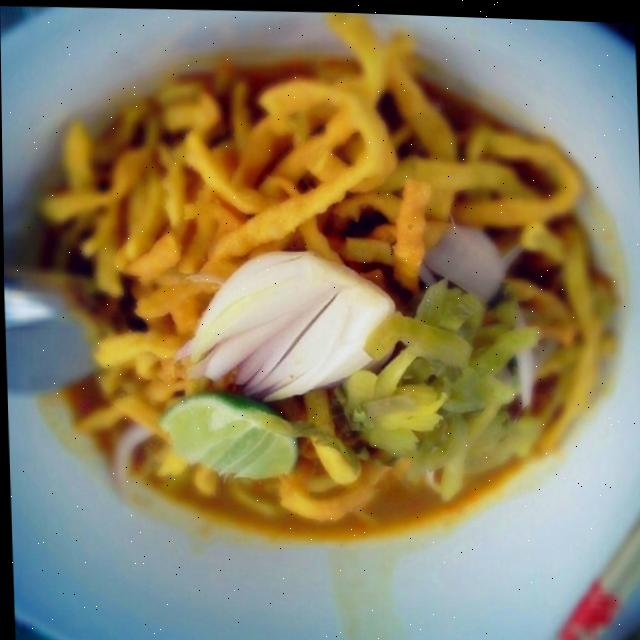面条主食: (5, 27, 640, 640)
